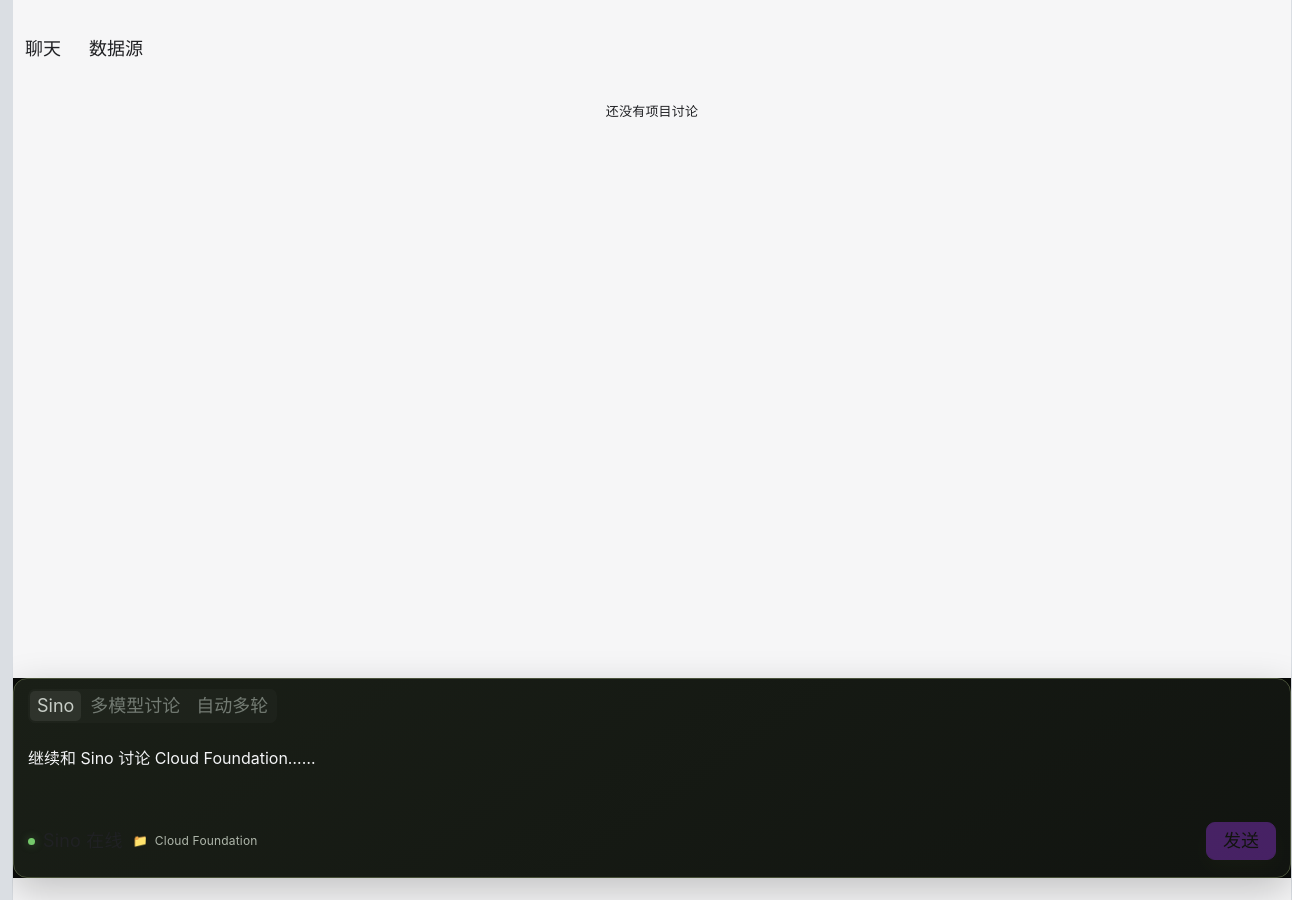
System Project workspace context › switches to the lightweight Data Sources shell without inventing backend data
Click the button "数据源" at (116, 49), box left=77, top=30, right=155, bottom=68
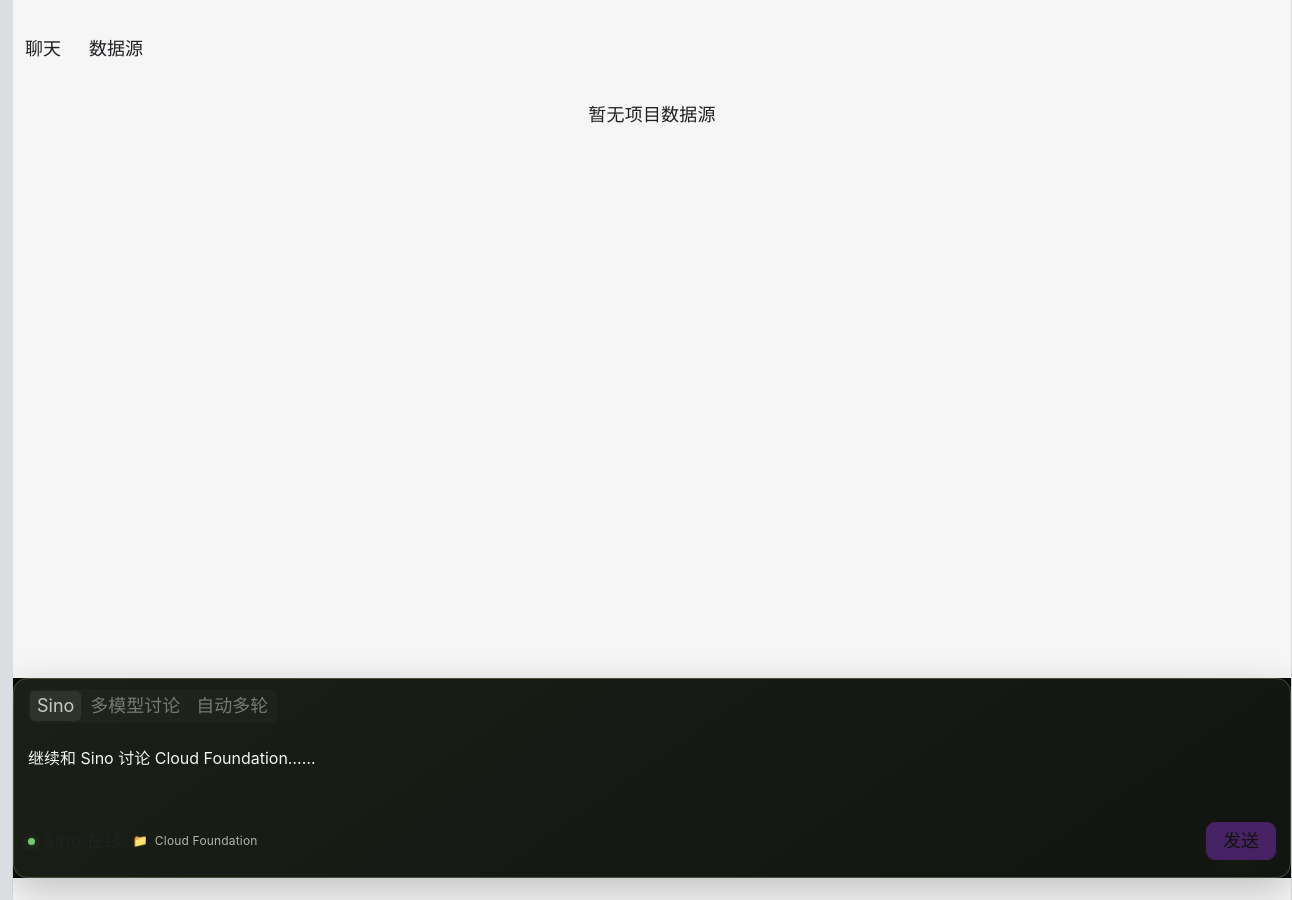
Now the text "暂无项目数据源" is shown, box left=588, top=104, right=716, bottom=125
